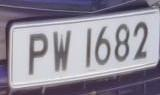1: (81, 22, 96, 75)
2: (132, 17, 153, 66)
6: (92, 21, 113, 73)
8: (113, 20, 133, 69)
P: (24, 28, 52, 79)
W: (48, 25, 76, 78)
